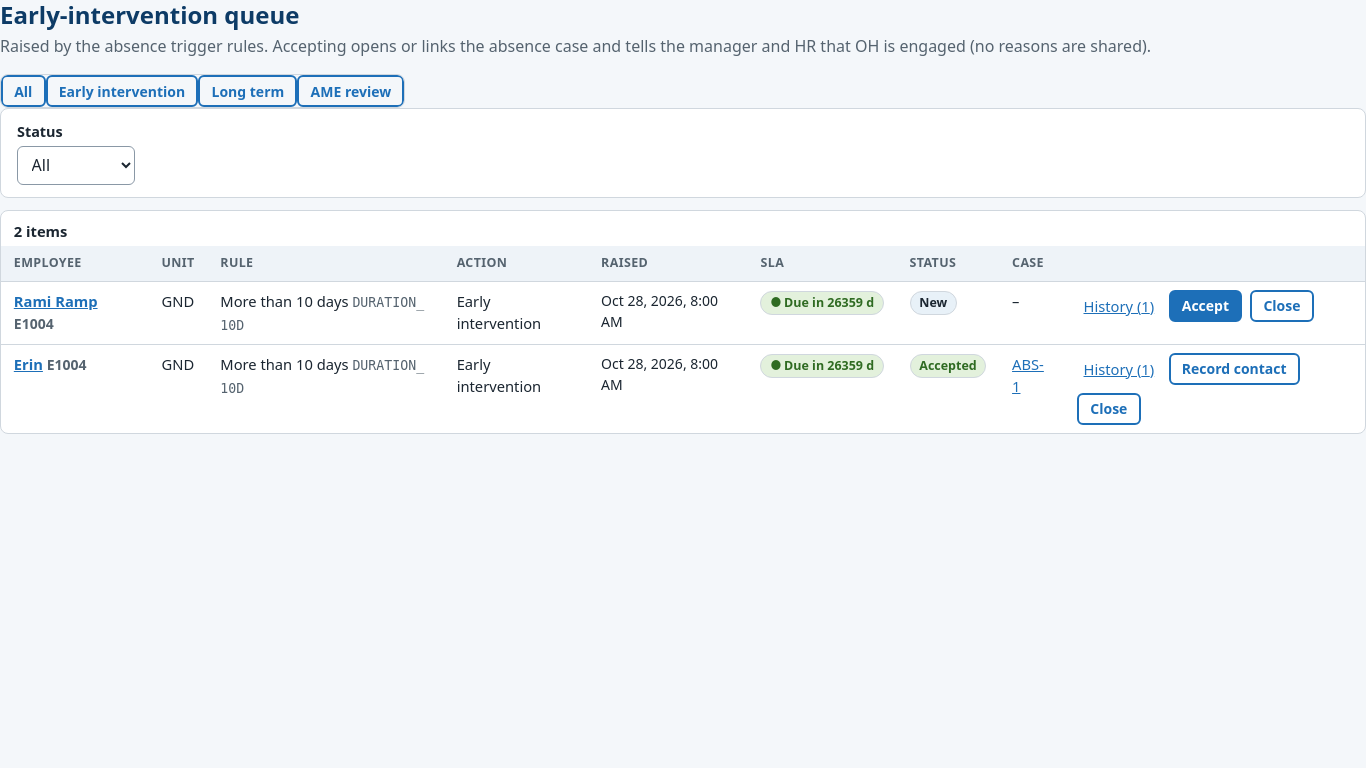
AbsenceQueue › filters the AME queue, accepts, records a contact and shows history
This screenshot has width=1366, height=768.
Click the button with aria-label "Accept Rami Ramp" at (1205, 306), box [1169,290,1242,322]
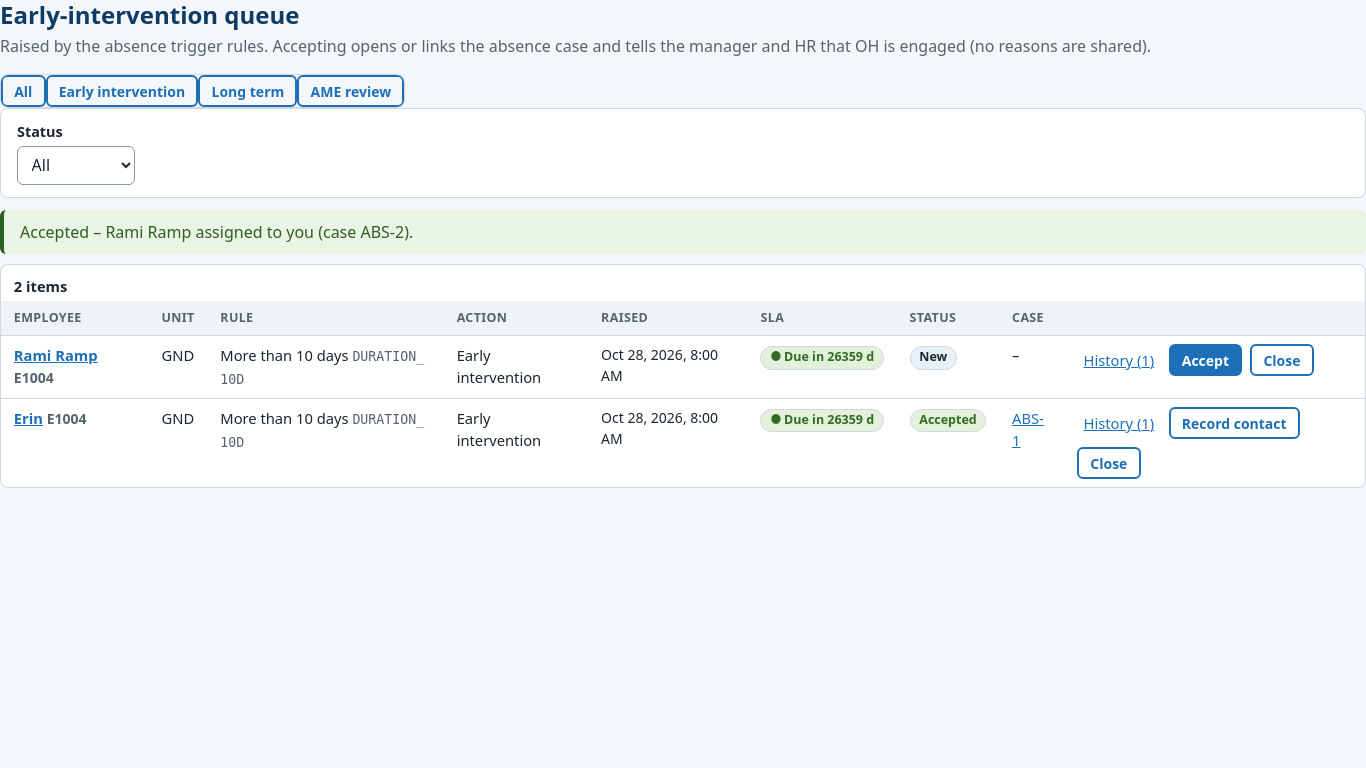
Now the text "Accepted – Rami Ramp assigned to you (case ABS-2)." is shown, box [0,210,1365,254]
Click the button with aria-label "Record contact with Erin" at (1234, 423), box [1169,407,1300,439]
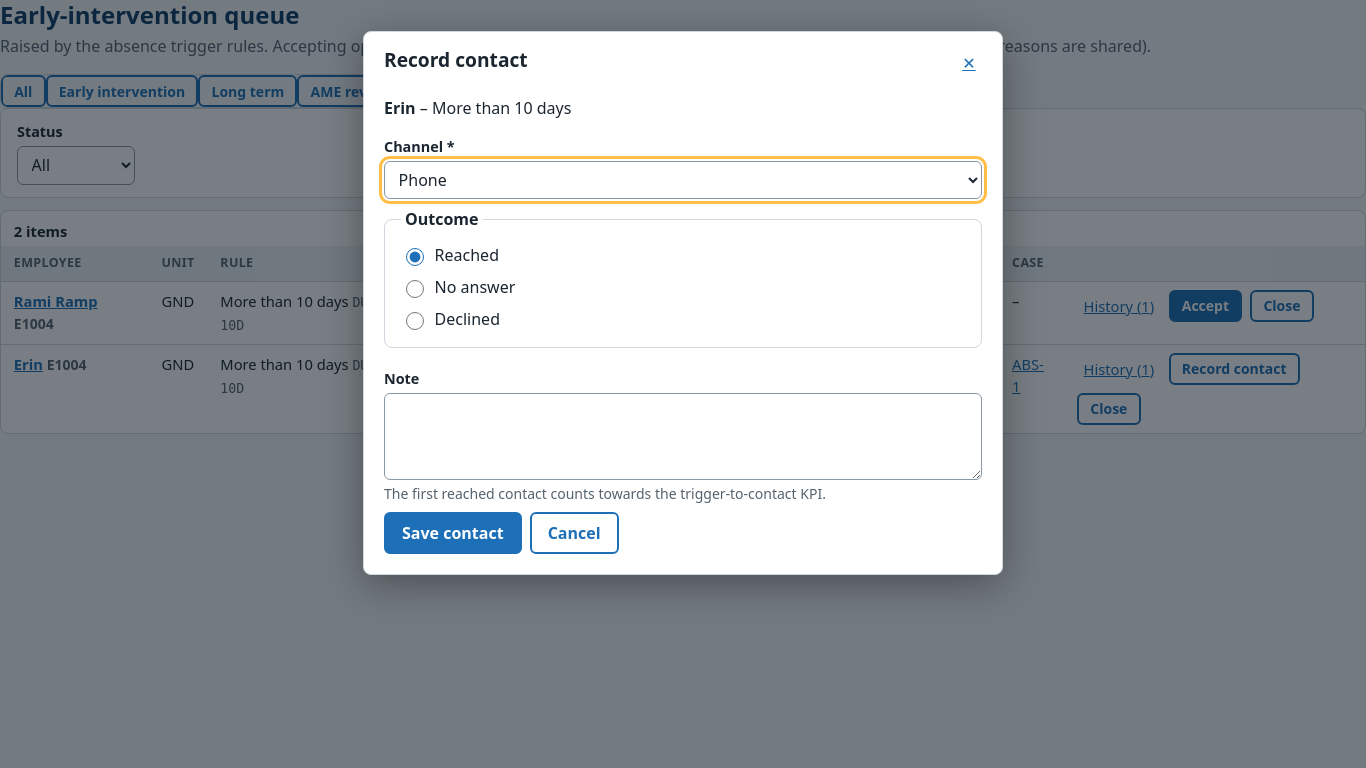
Click the radio button labelled "No answer" at (415, 289), box [406,280,424,298]
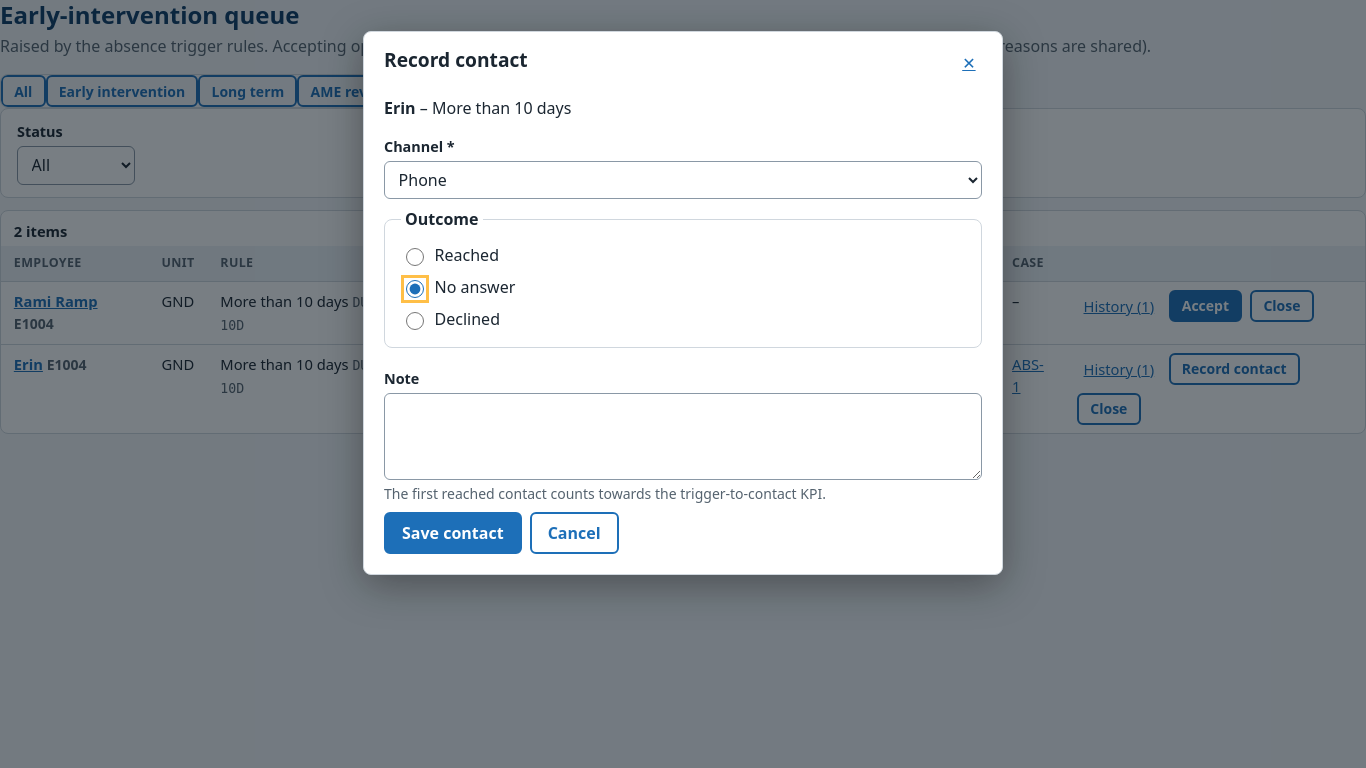
Type "Left voicemail" into the text box labelled "Note" at (683, 436), box [384,393,982,480]
Click the button "Save contact" at (453, 533), box [384,512,522,554]
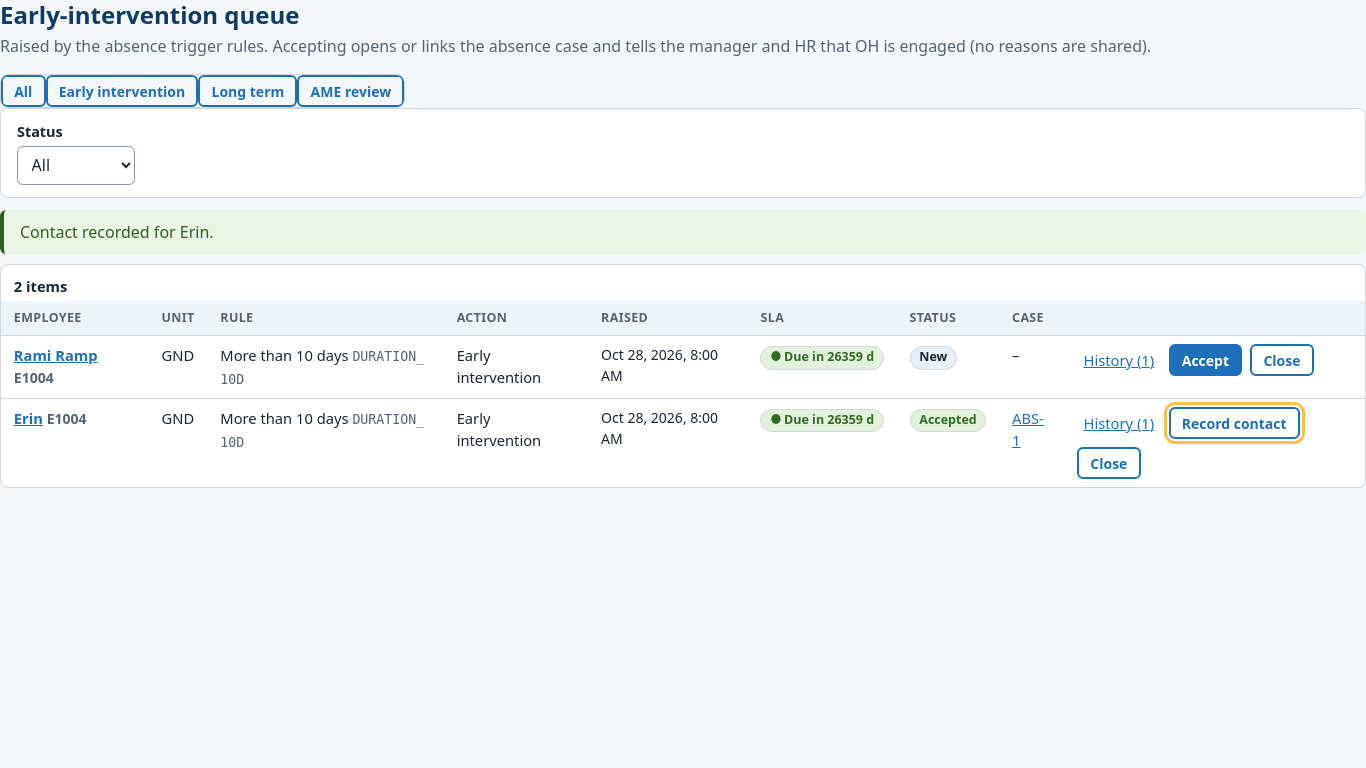
Click the button "History (1)" in the row of "Rami Ramp" at (1119, 360), box [1077,346,1160,375]
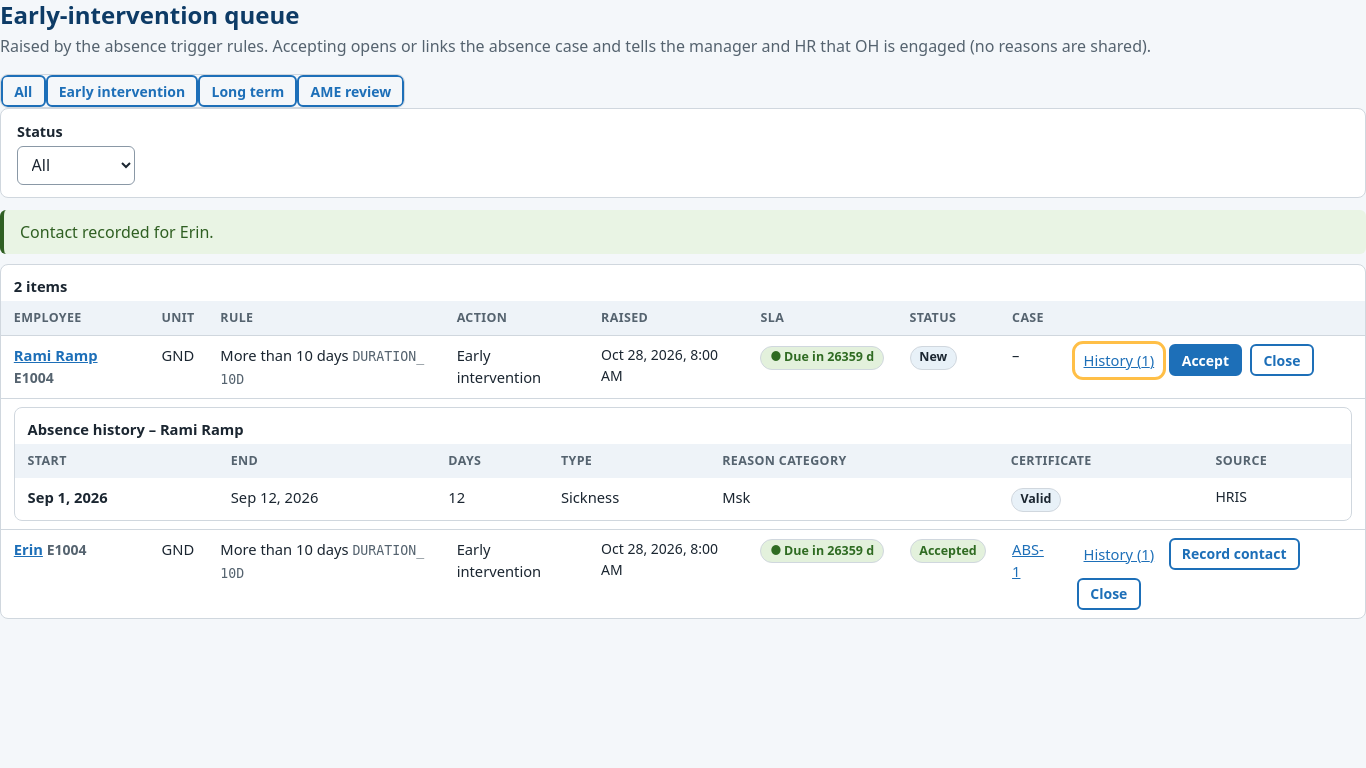
Now the table "Absence history – Rami Ramp" is shown, box [15,408,1351,520]
Click the button "AME review" at (351, 91), box [297,75,404,107]
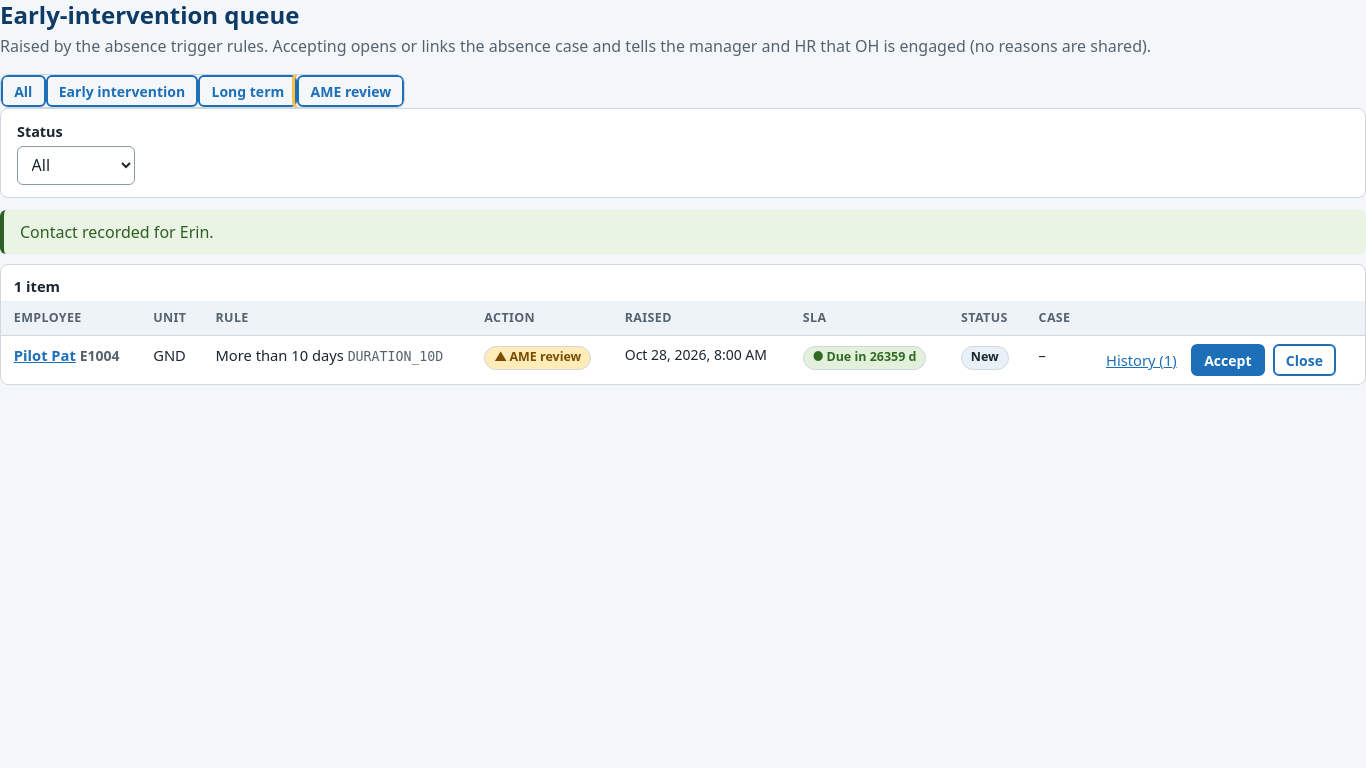
Now the link "Pilot Pat" is shown, box [14,345,76,365]
